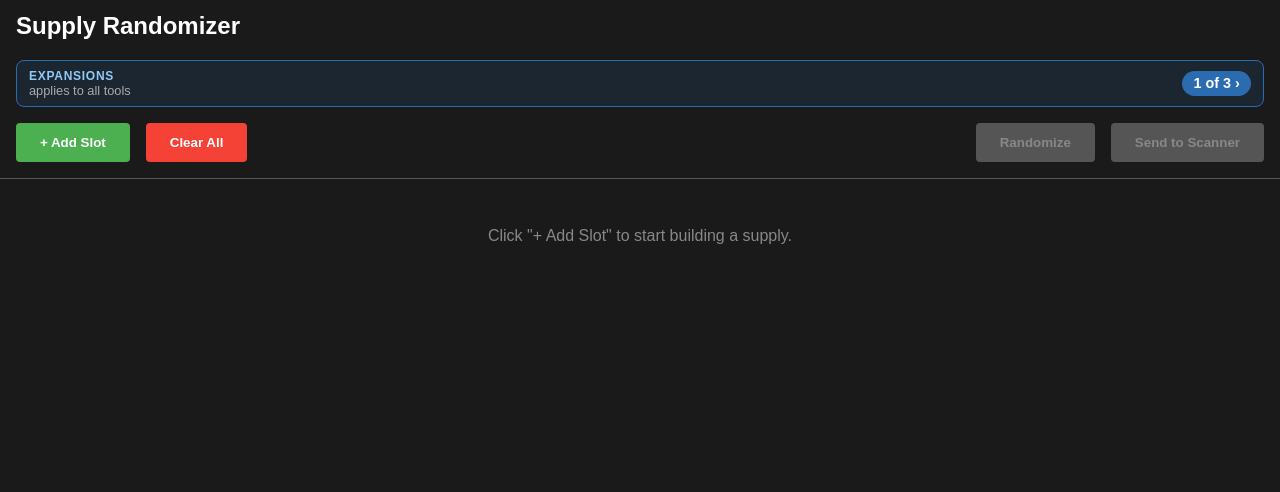
Test: SupplyRandomizerScreen › shows an Expansions hint when a slot has zero matches in the owned pool
Click the button "+ Add Slot" at (73,142), box [16, 123, 130, 162]
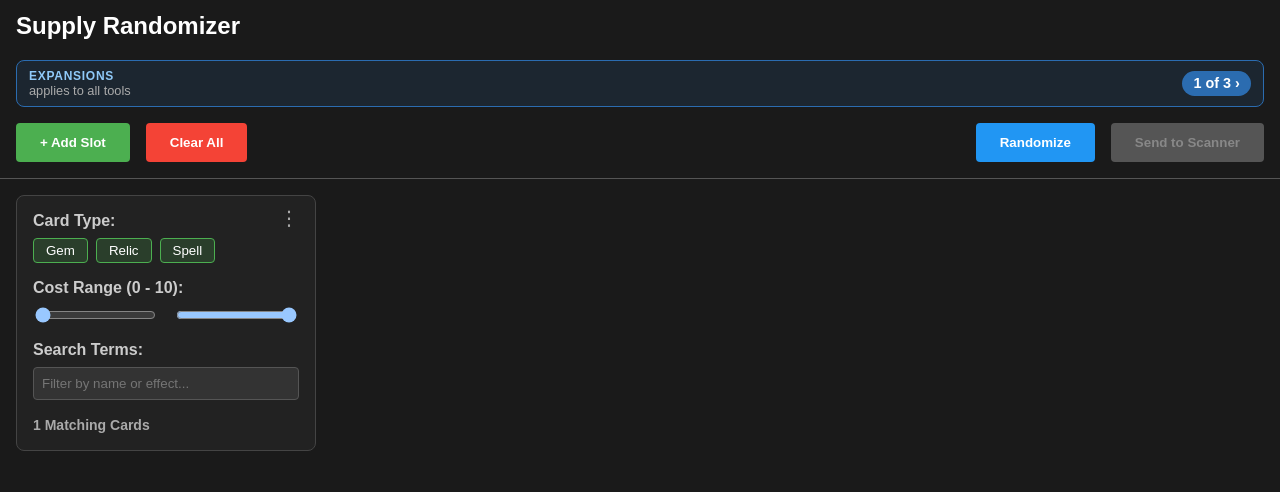
Click the button "Relic" at (124,250), box [96, 238, 152, 263]
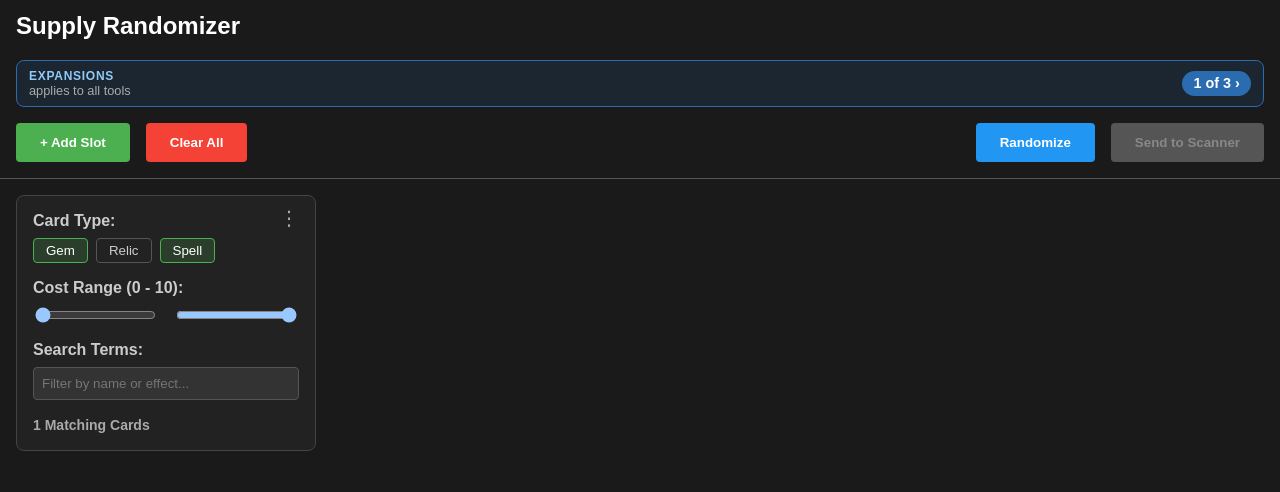
Click the button "Spell" at (187,250), box [160, 238, 215, 263]
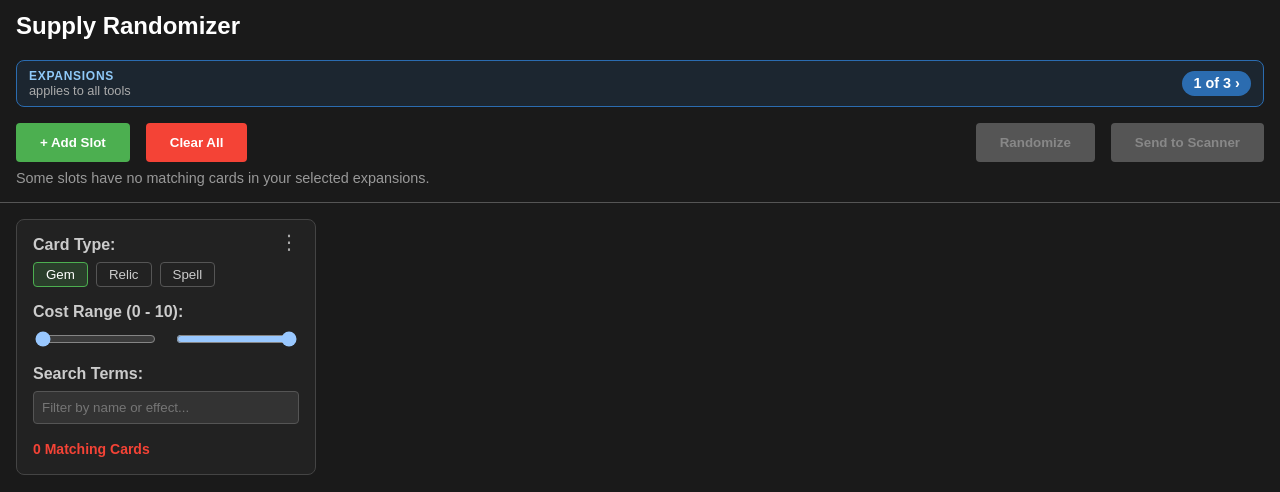
Now the text "0 Matching Cards" is shown, box [33, 441, 150, 457]
Now the button "Randomize" is disabled, box [976, 123, 1095, 162]
Now the text "Some slots have no matching cards in your selected expansions." is shown, box [16, 170, 430, 186]
